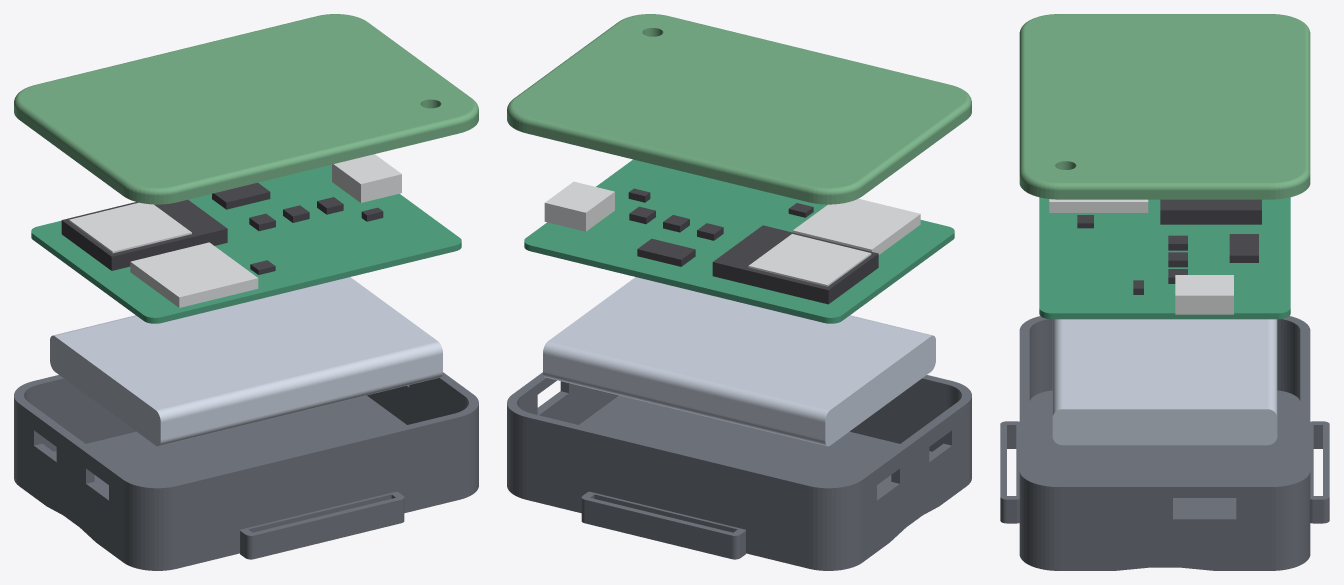
File: hub_exploded.glb
The picture shows the model from 3 angles, left to right: view 1: azimuth 30°, elevation 25°; view 2: azimuth 150°, elevation 25°; view 3: azimuth 270°, elevation 25°; orthographic projection.
Parts seen in each view (by area): view 1: 000_base, 013_lid, 001_bat, 002_pcb, 005_sd, 003_esp, 004_shield, 006_usb, 007_chip; view 2: 000_base, 013_lid, 001_bat, 002_pcb, 003_esp, 005_sd, 004_shield, 006_usb, 007_chip; view 3: 013_lid, 000_base, 001_bat, 002_pcb, 003_esp, 006_usb, 005_sd, 007_chip.
Part boxes in pixels (x1,y1,x2,y2): 000_base: (14, 372, 478, 570); 013_lid: (14, 14, 478, 204); 001_bat: (50, 277, 442, 446); 002_pcb: (31, 164, 461, 323); 005_sd: (130, 242, 258, 307); 003_esp: (61, 199, 227, 270); 004_shield: (69, 202, 191, 253); 006_usb: (332, 154, 401, 202); 007_chip: (212, 182, 270, 209); 000_base: (507, 372, 971, 570); 013_lid: (507, 14, 971, 204); 001_bat: (543, 277, 935, 446); 002_pcb: (524, 159, 954, 323); 003_esp: (712, 225, 878, 304); 005_sd: (792, 198, 920, 254); 004_shield: (748, 234, 871, 286); 006_usb: (544, 181, 614, 231); 007_chip: (637, 238, 695, 266); 013_lid: (1019, 14, 1310, 199); 000_base: (1000, 316, 1329, 570); 001_bat: (1052, 319, 1277, 445); 002_pcb: (1039, 197, 1290, 319); 003_esp: (1160, 199, 1261, 224); 006_usb: (1175, 275, 1233, 314); 005_sd: (1049, 199, 1148, 212); 007_chip: (1229, 234, 1258, 262).
Bounding box in the file's own units: 0.062 × 0.0644 × 0.0498.
